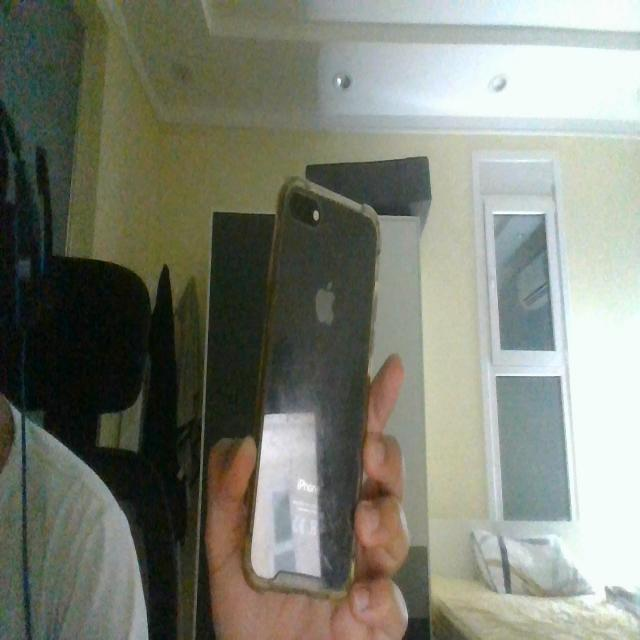Phone: (242, 173, 382, 604)
